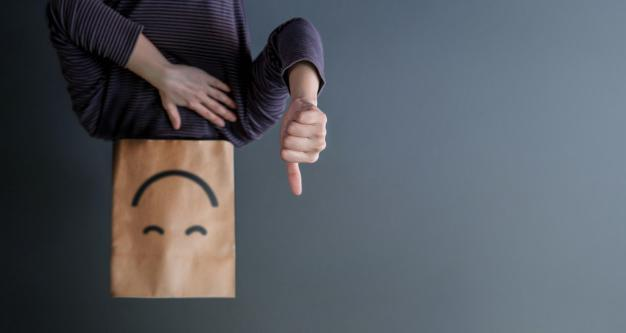thumbsdown: (279, 108, 328, 196)
